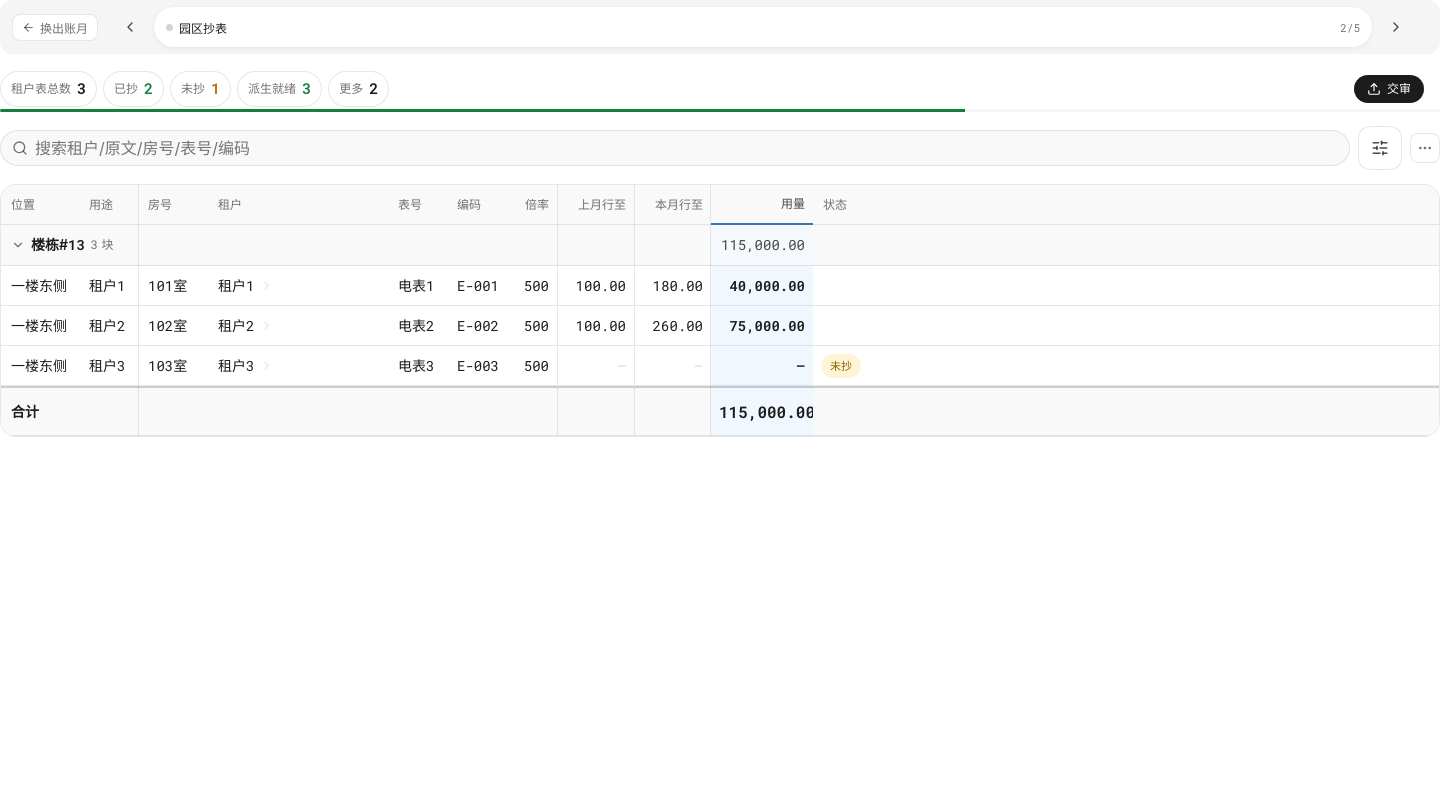
Scenario: §5.10 · 筛选行收成「搜索 + 带计数的筛选钮」 › 面板里一件不少:段控 2 + 下拉 3 + 重置 1 = 收进去的六件(第七件是留在外面的搜索)
Click the button with class "mt5-fbtn". click: (1380, 148)
box: [1358,126,1402,170]
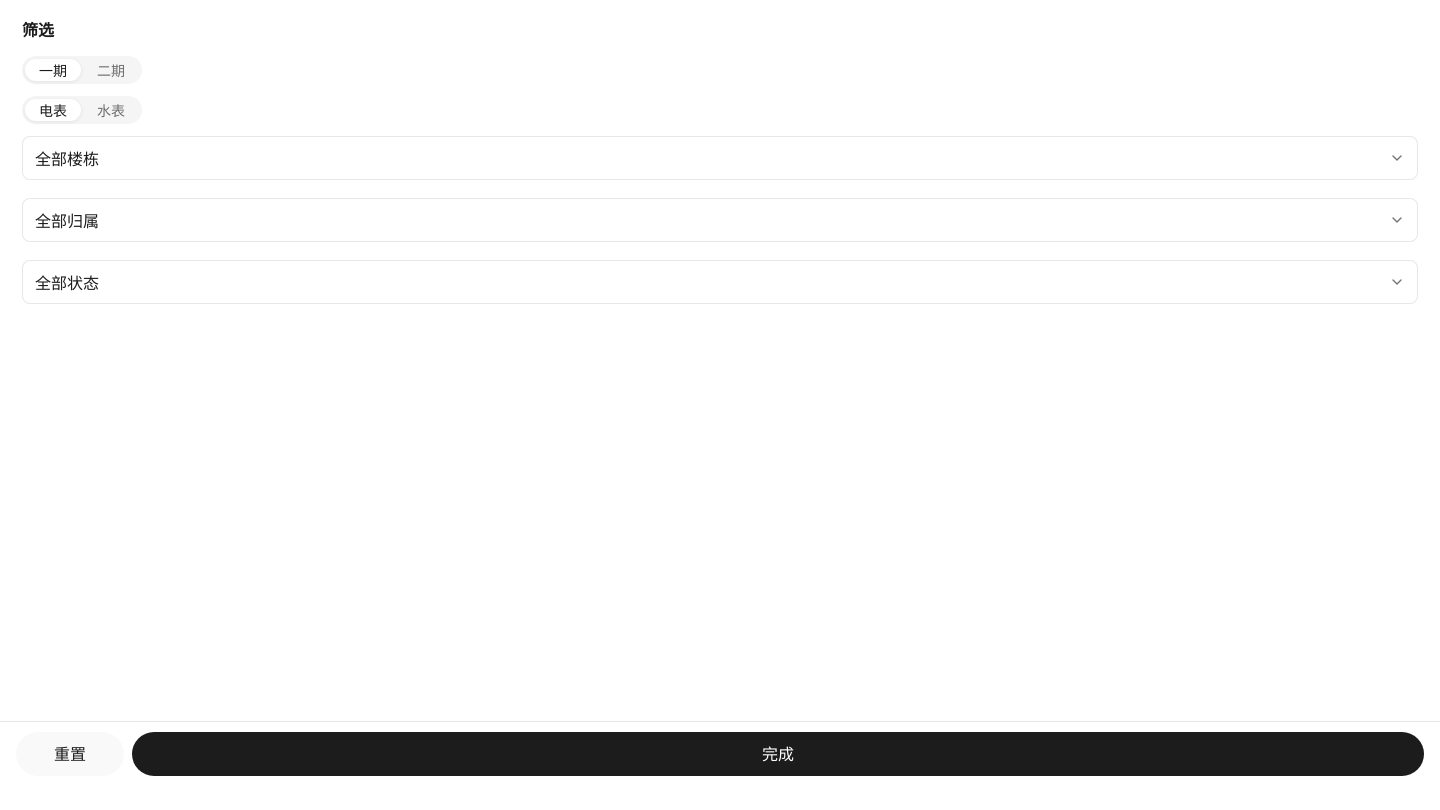
Now the element with class "mt5-panel" is shown
Now the number of "Segmented" components is 2, box [22,56,142,84]; [22,96,142,124]
Now the number of dropdowns with class "ds-sel-trigger" is 3, box [22,136,1418,180]; [22,198,1418,242]; [22,260,1418,304]
